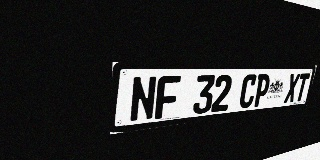2: (211, 75, 233, 112)
3: (192, 75, 216, 115)
C: (238, 74, 258, 109)
F: (155, 76, 181, 119)
N: (129, 76, 157, 123)
P: (252, 74, 271, 107)
T: (294, 73, 310, 102)
X: (283, 74, 300, 103)
